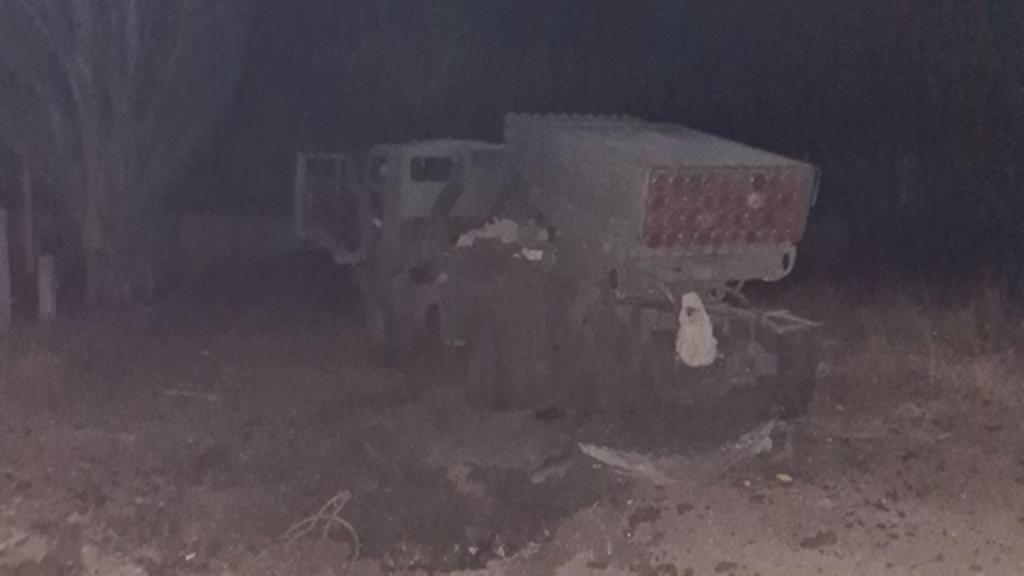MLRS: (292, 104, 830, 426)
